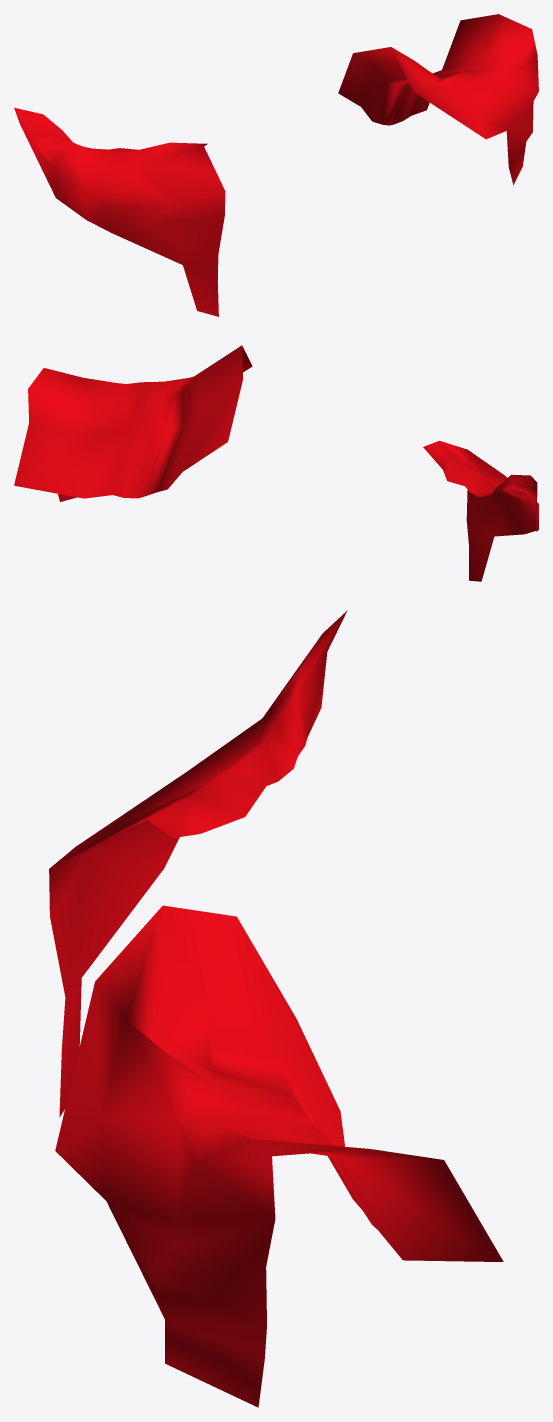
File: eyeBlood.glb
3 views of the same model, one above another, from view 1: azimuth 30°, elevation 25°; view 2: azimuth 150°, elevation 25°; view 3: azimuth 270°, elevation 25° (orthographic). The views are drawn at different scales.
Parts seen in each view (by area): view 1: Blood, Blood.001; view 2: Blood.001, Blood; view 3: Blood.001, Blood.
Boxes of the visible parts, x1,y1,x2,y2 form: Blood: (14,107,225,316); Blood.001: (338,14,538,185); Blood.001: (14,345,252,501); Blood: (423,440,538,581); Blood.001: (55,905,503,1407); Blood: (49,610,347,1117).
Bounding box in the file's own units: 0.4612 × 0.1767 × 0.1795.
